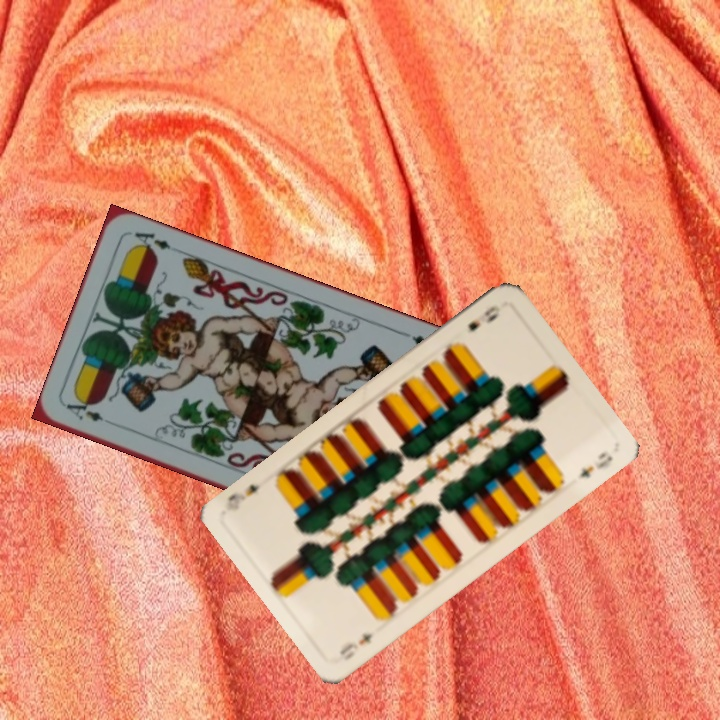E9: (463, 301, 503, 334), (335, 628, 375, 657)
EA: (62, 397, 106, 424)
